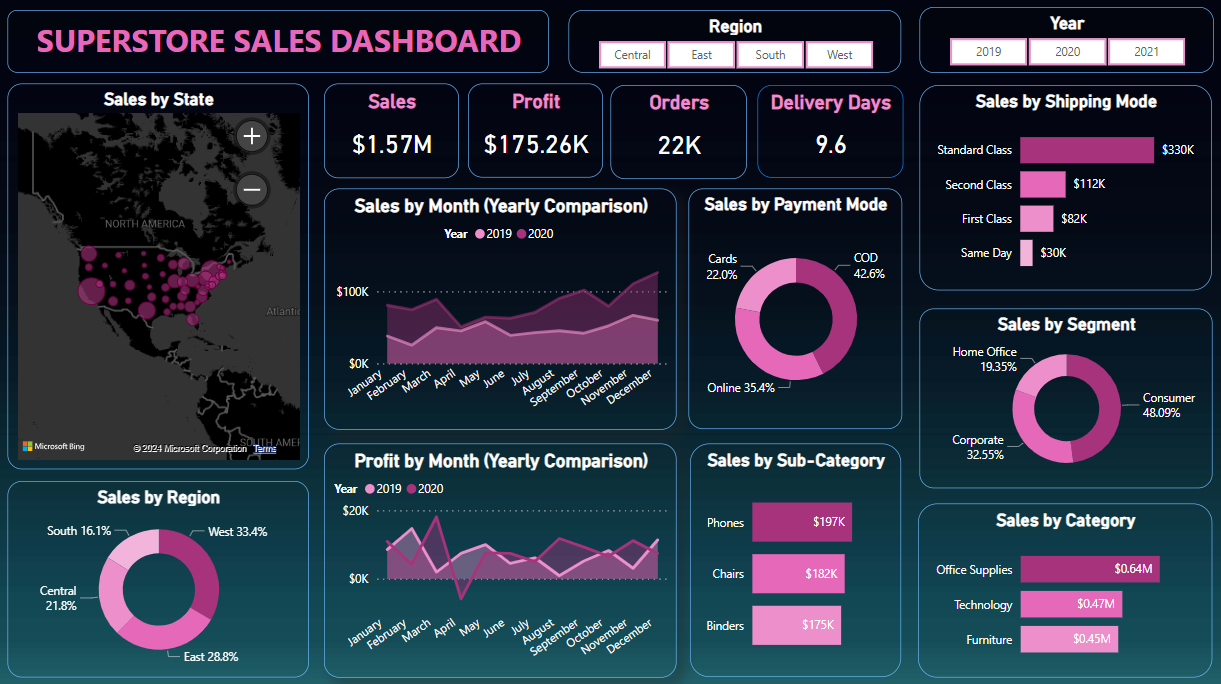

This screenshot's page, from the dashboard's own definition file:
{"tool":"powerbi","page":{"name":"Page 1","canvas":[1280,720],"ordinal":0},"visuals":[{"type":"clusteredBarChart","title":"Sales by Category","fields":{"Y":["Sum(SuperStore_Sales_Dataset.Sales)"],"Category":["SuperStore_Sales_Dataset.Category"]},"box":[959.3,527.1,306.8,181.4],"z":0},{"type":"clusteredBarChart","title":"Sales by Sub-Category","fields":{"Y":["Sum(SuperStore_Sales_Dataset.Sales)"],"Category":["SuperStore_Sales_Dataset.Sub-Category"]},"box":[722.7,463.6,220,243.6],"z":1000},{"type":"clusteredBarChart","title":"Sales by Shipping Mode","fields":{"Y":["Sum(SuperStore_Sales_Dataset.Sales)"],"Category":["SuperStore_Sales_Dataset.Ship Mode"]},"box":[961.2,90.7,304.8,214.1],"z":2000},{"type":"slicer","title":"Region","fields":{"Values":["SuperStore_Sales_Dataset.Region"]},"box":[595.5,12.5,347,65.6],"z":3000},{"type":"areaChart","title":"Sales by Month (Yearly Comparison)","fields":{"Y":["Sum(SuperStore_Sales_Dataset.Sales)"],"Category":["SuperStore_Sales_Dataset.Order Date.Variation.Date Hierarchy.Month"],"Series":["SuperStore_Sales_Dataset.Order Date.Variation.Date Hierarchy.Year"]},"box":[340.7,198.5,367.3,251.6],"z":4000},{"type":"map","title":"Sales by State","fields":{"Category":["SuperStore_Sales_Dataset.State"],"Size":["Sum(SuperStore_Sales_Dataset.Sales)"]},"box":[10.9,89.1,314.2,401.7],"z":5000},{"type":"areaChart","title":"Profit by Month (Yearly Comparison)","fields":{"Category":["SuperStore_Sales_Dataset.Order Date.Variation.Date Hierarchy.Month"],"Series":["SuperStore_Sales_Dataset.Order Date.Variation.Date Hierarchy.Year"],"Y":["Sum(SuperStore_Sales_Dataset.Profit)"]},"box":[340.7,464.2,367.3,243.8],"z":6000},{"type":"slicer","title":"Year","fields":{"Values":["SuperStore_Sales_Dataset.Ship Date.Variation.Date Hierarchy.Year"]},"box":[960.5,9.2,306.6,68.4],"z":7000},{"type":"donutChart","title":"Sales by Payment Mode","fields":{"Y":["Sum(SuperStore_Sales_Dataset.Sales)"],"Category":["SuperStore_Sales_Dataset.Payment Mode"]},"box":[720,199.1,222.7,250.9],"z":8000},{"type":"donutChart","title":"Sales by Segment","fields":{"Y":["Sum(SuperStore_Sales_Dataset.Sales)"],"Category":["SuperStore_Sales_Dataset.Segment"]},"box":[960.9,323.6,305.5,187.3],"z":9000},{"type":"textbox","box":[10.9,12.5,564.2,65.6],"z":10000},{"type":"card","title":"Sales","fields":{"Values":["Sum(SuperStore_Sales_Dataset.Sales)"]},"box":[340.7,89.3,140.7,98.6],"z":11000},{"type":"card","title":"Profit","fields":{"Values":["Sum(SuperStore_Sales_Dataset.Profit)"]},"box":[490.9,89.1,140.9,98.2],"z":12000},{"type":"card","title":"Orders","fields":{"Values":["Sum(SuperStore_Sales_Dataset.Quantity)"]},"box":[640,90,142.1,97.9],"z":13000},{"type":"donutChart","title":"Sales by Region","fields":{"Y":["Sum(SuperStore_Sales_Dataset.Sales)"],"Category":["SuperStore_Sales_Dataset.Region"]},"box":[10.9,503.3,314.2,204.8],"z":13001},{"type":"card","title":"Delivery Days","fields":{"Values":["SuperStore_Sales_Dataset.Average delivery days"]},"box":[791.7,90,151.7,96.7],"z":13002}]}

Visuals, with their boxes in screenshot pixels (x1, y1, x2, y2), scaled from the page's 1280x720 canvas onto the 1221x684 screenshot:
"Sales by Category" clusteredBarChart: <bbox>915, 501, 1208, 673</bbox>
"Sales by Sub-Category" clusteredBarChart: <bbox>689, 440, 899, 672</bbox>
"Sales by Shipping Mode" clusteredBarChart: <bbox>917, 86, 1208, 290</bbox>
"Region" slicer: <bbox>568, 12, 899, 74</bbox>
"Sales by Month (Yearly Comparison)" areaChart: <bbox>325, 189, 675, 428</bbox>
"Sales by State" map: <bbox>10, 85, 310, 466</bbox>
"Profit by Month (Yearly Comparison)" areaChart: <bbox>325, 441, 675, 673</bbox>
"Year" slicer: <bbox>916, 9, 1209, 74</bbox>
"Sales by Payment Mode" donutChart: <bbox>687, 189, 899, 428</bbox>
"Sales by Segment" donutChart: <bbox>917, 307, 1208, 485</bbox>
textbox: <bbox>10, 12, 549, 74</bbox>
"Sales" card: <bbox>325, 85, 459, 179</bbox>
"Profit" card: <bbox>468, 85, 603, 178</bbox>
"Orders" card: <bbox>610, 86, 746, 179</bbox>
"Sales by Region" donutChart: <bbox>10, 478, 310, 673</bbox>
"Delivery Days" card: <bbox>755, 86, 900, 177</bbox>
